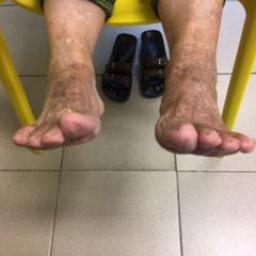Front View -Both Feet-: (4, 22, 255, 180)
